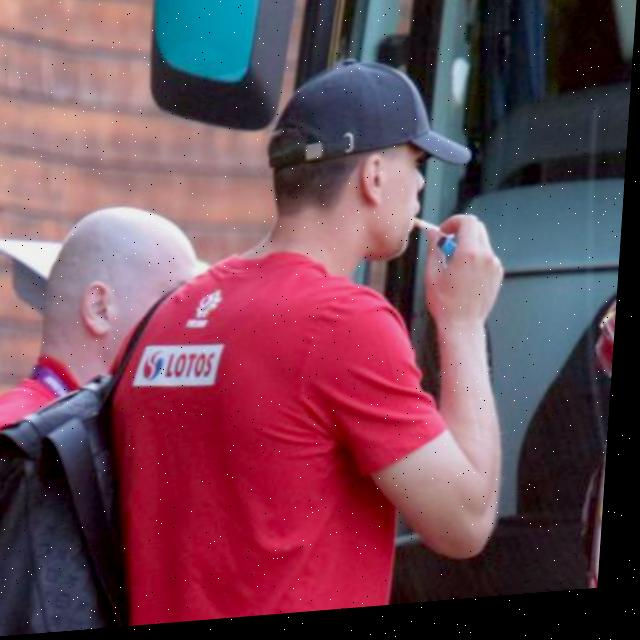cigarette: (416, 220, 460, 250)
